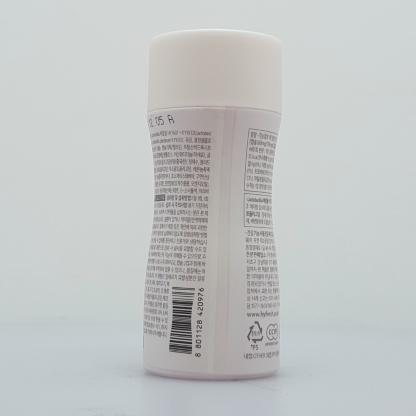------LOOK------170ML: (143, 28, 282, 380)
